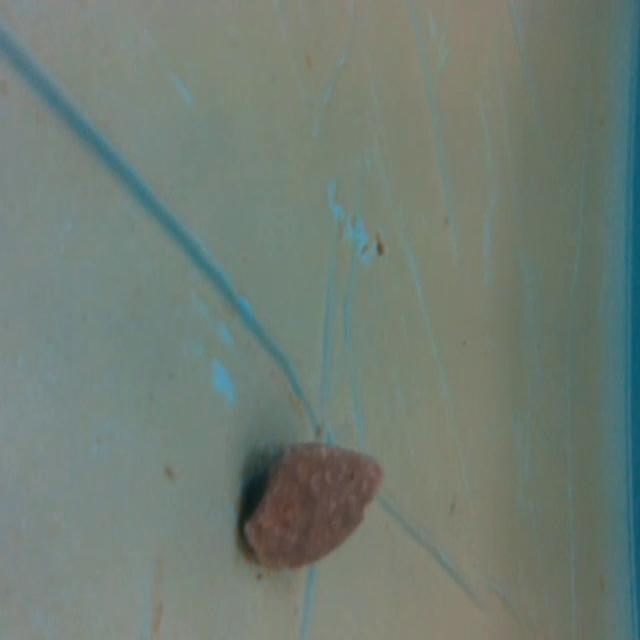rock: (236, 440, 391, 579)
